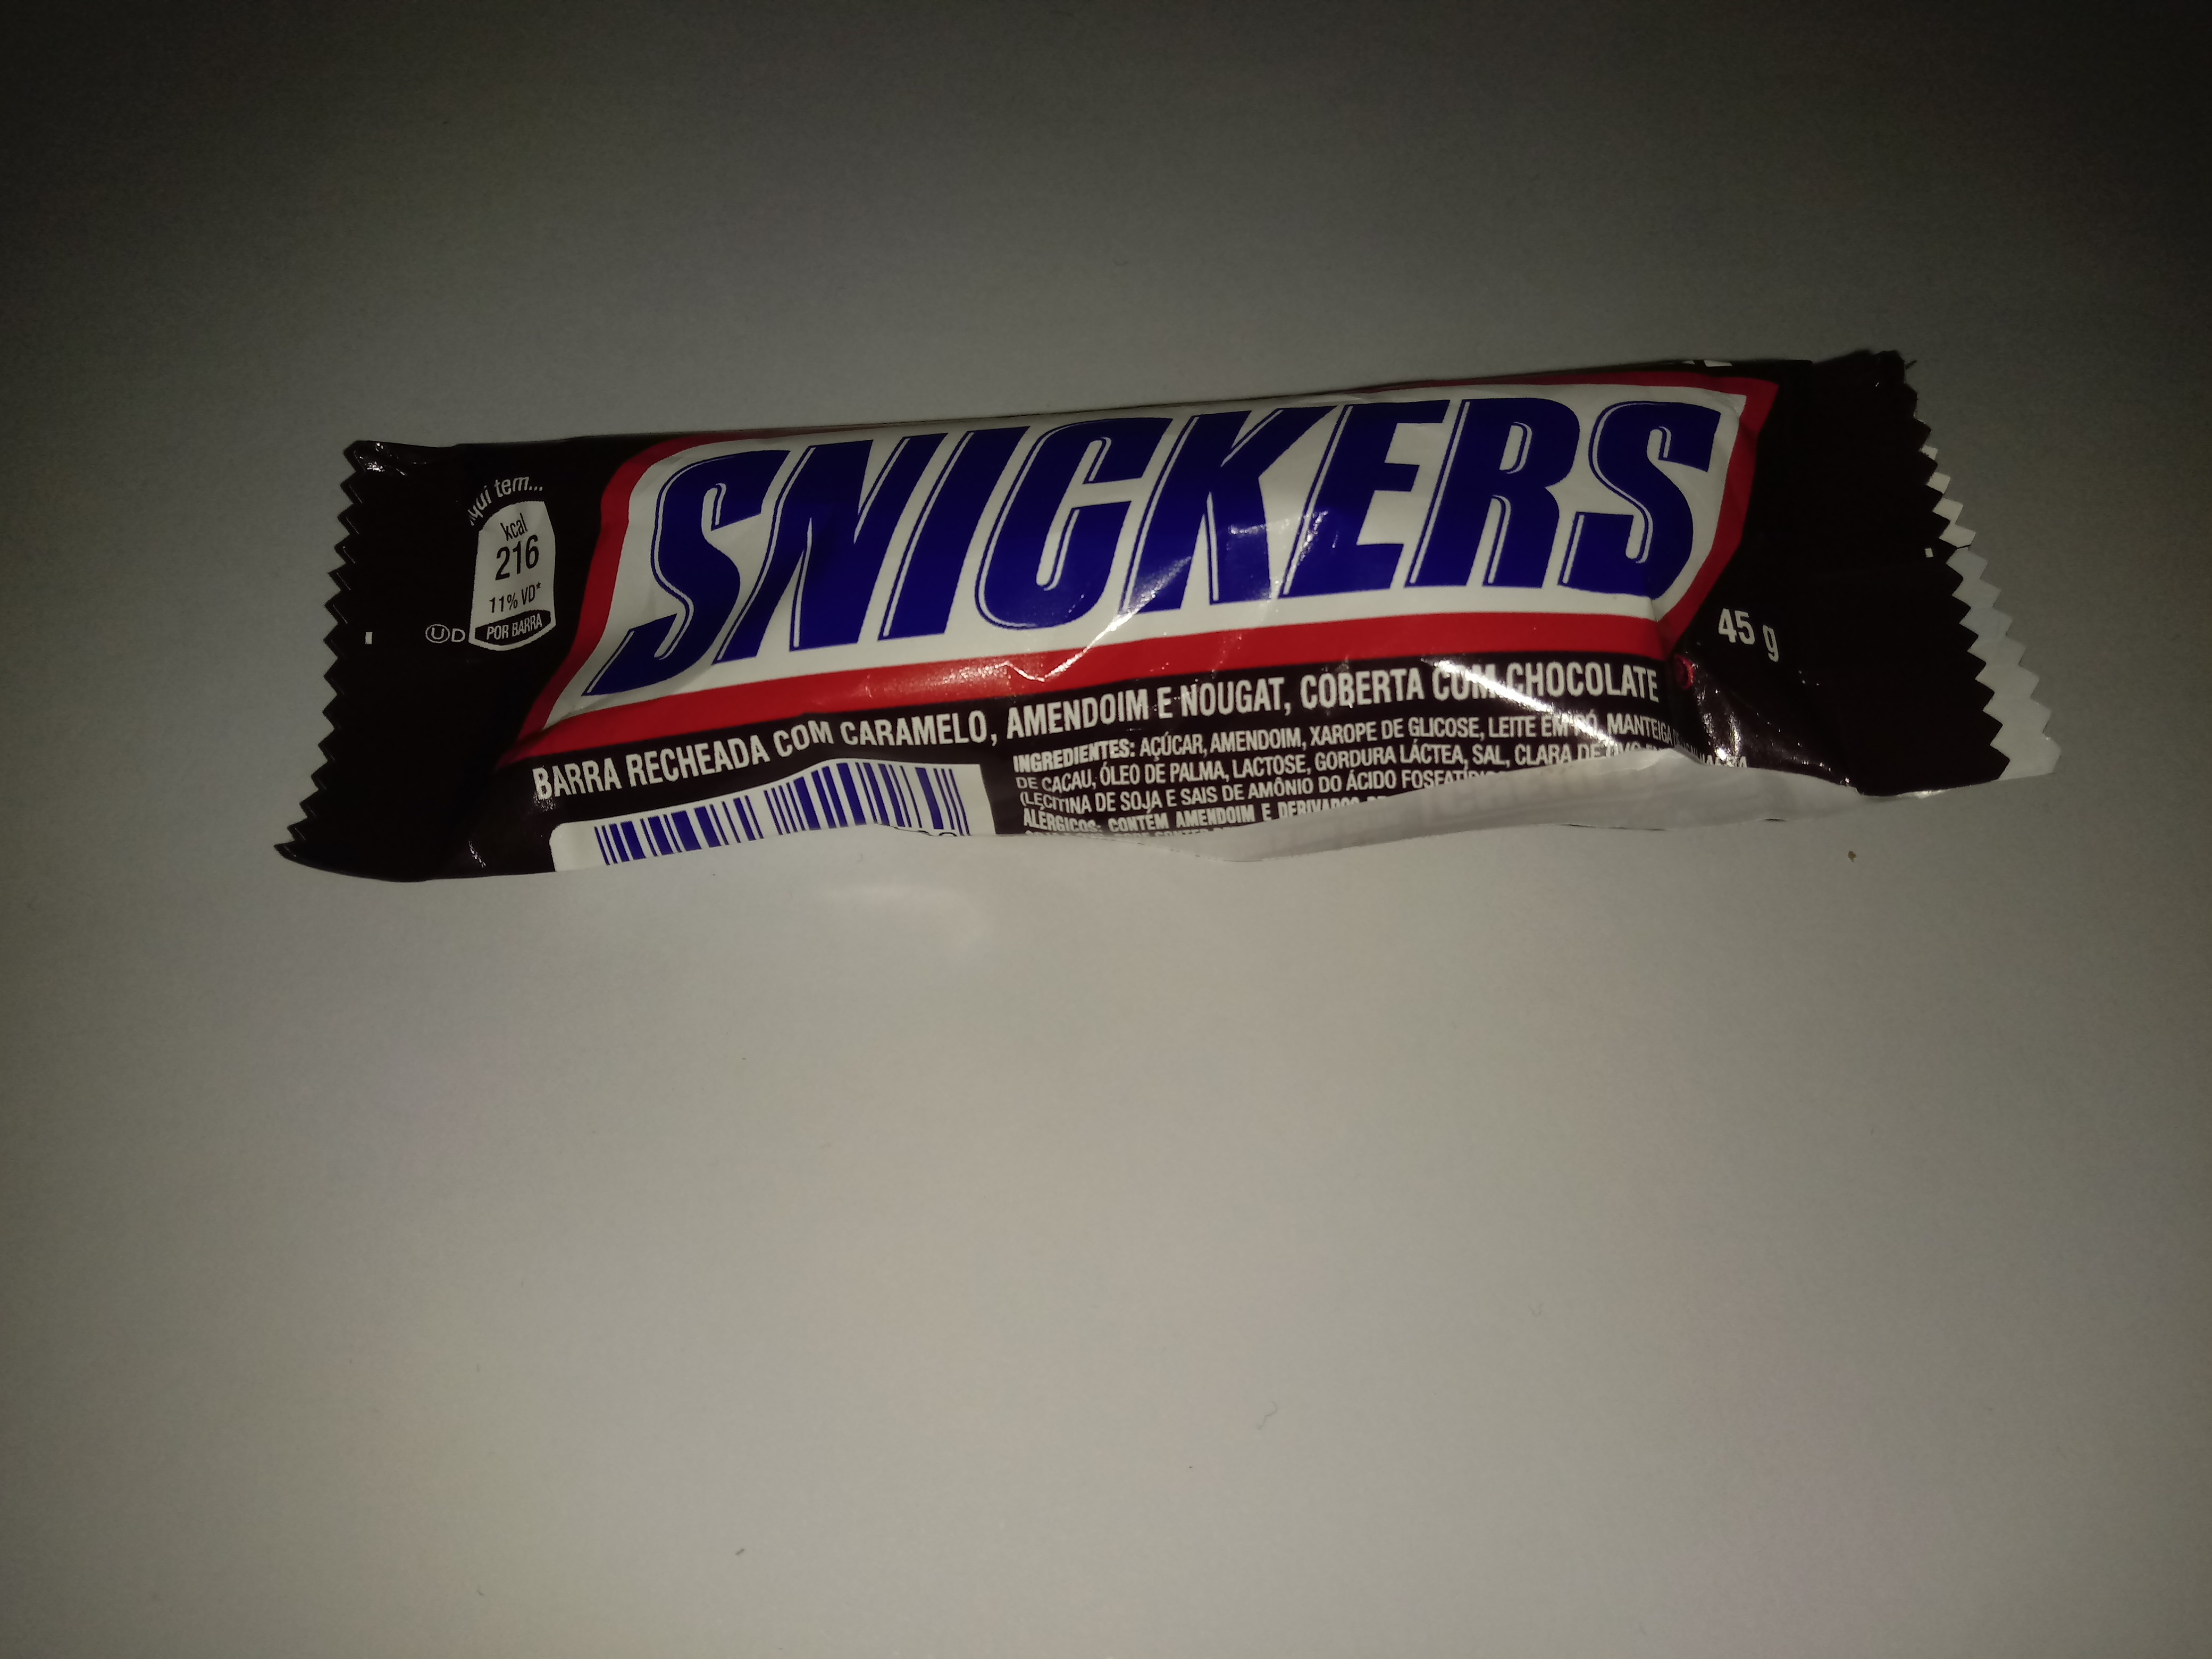snickers: (266, 338, 2073, 903)
